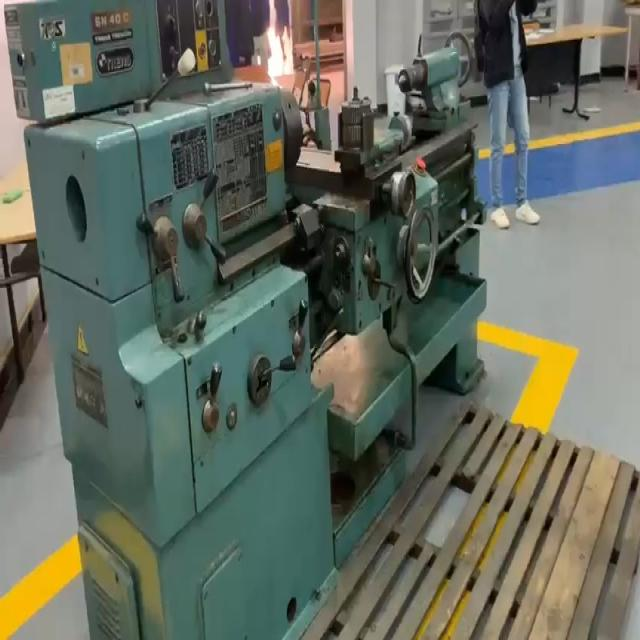tour parallele: (2, 0, 488, 640)
